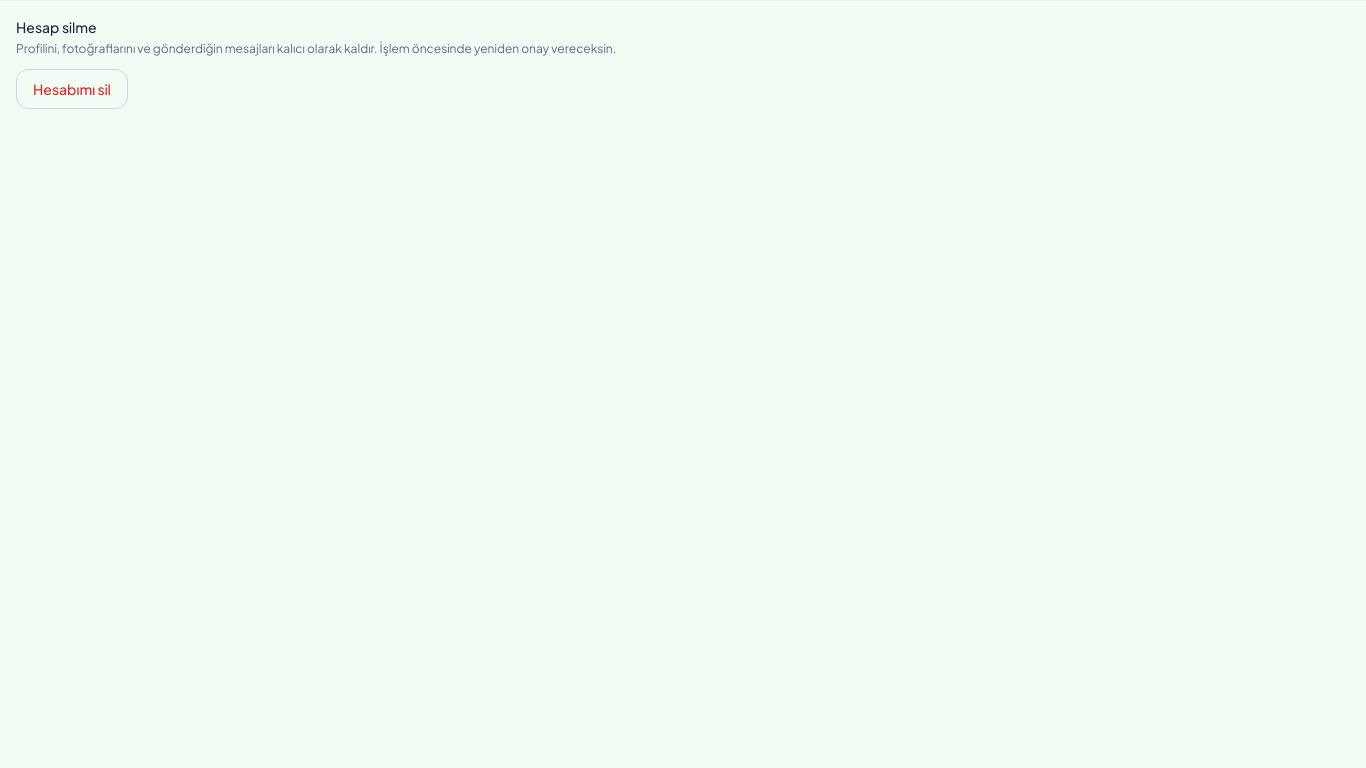
Test case: labels partial cleanup honestly and only signs out on confirmed success
Later steps or results of the test are not shown.
Click the button "Hesabımı sil" at (72, 89), box [16,69,128,109]
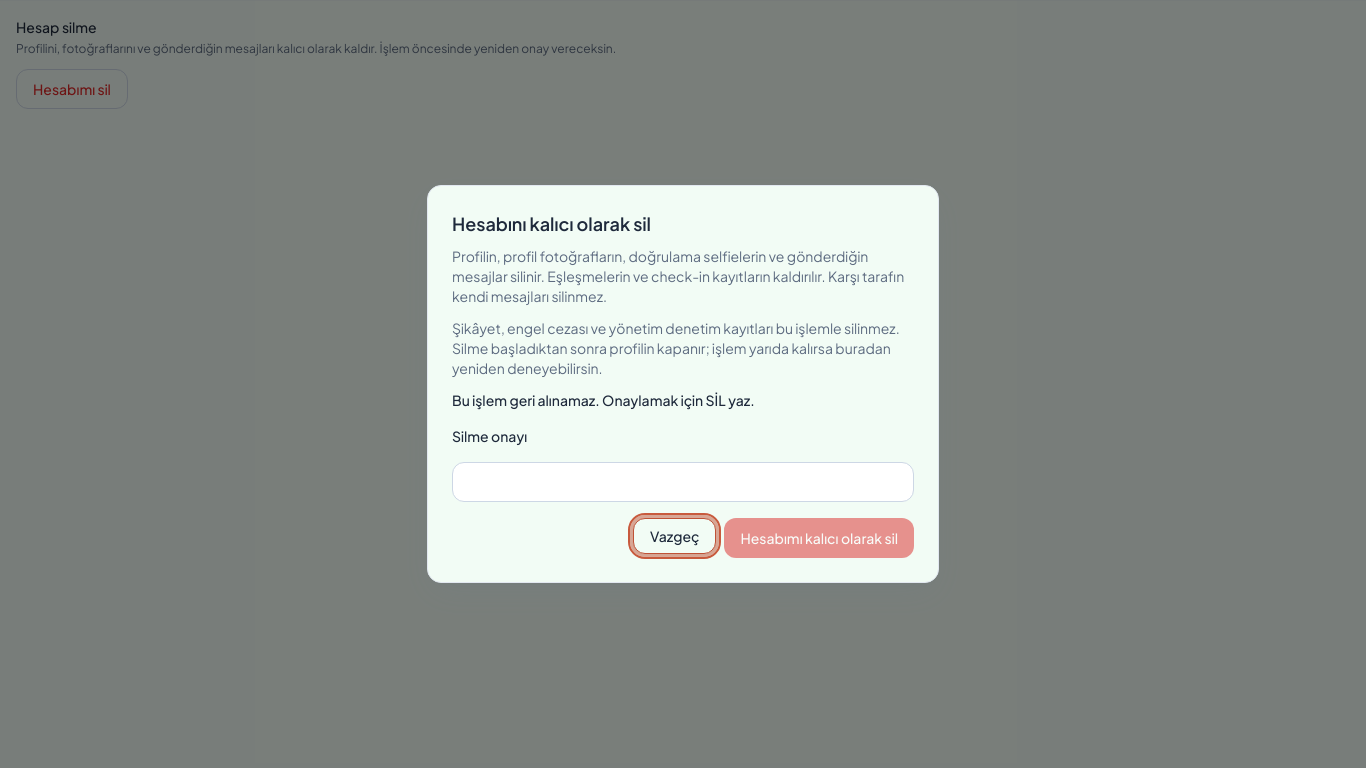
expect the dialog is shown: met, box [427,185,939,583]
Type "SİL" into the field labelled "Silme onayı" at (683, 482), box [452,462,914,502]
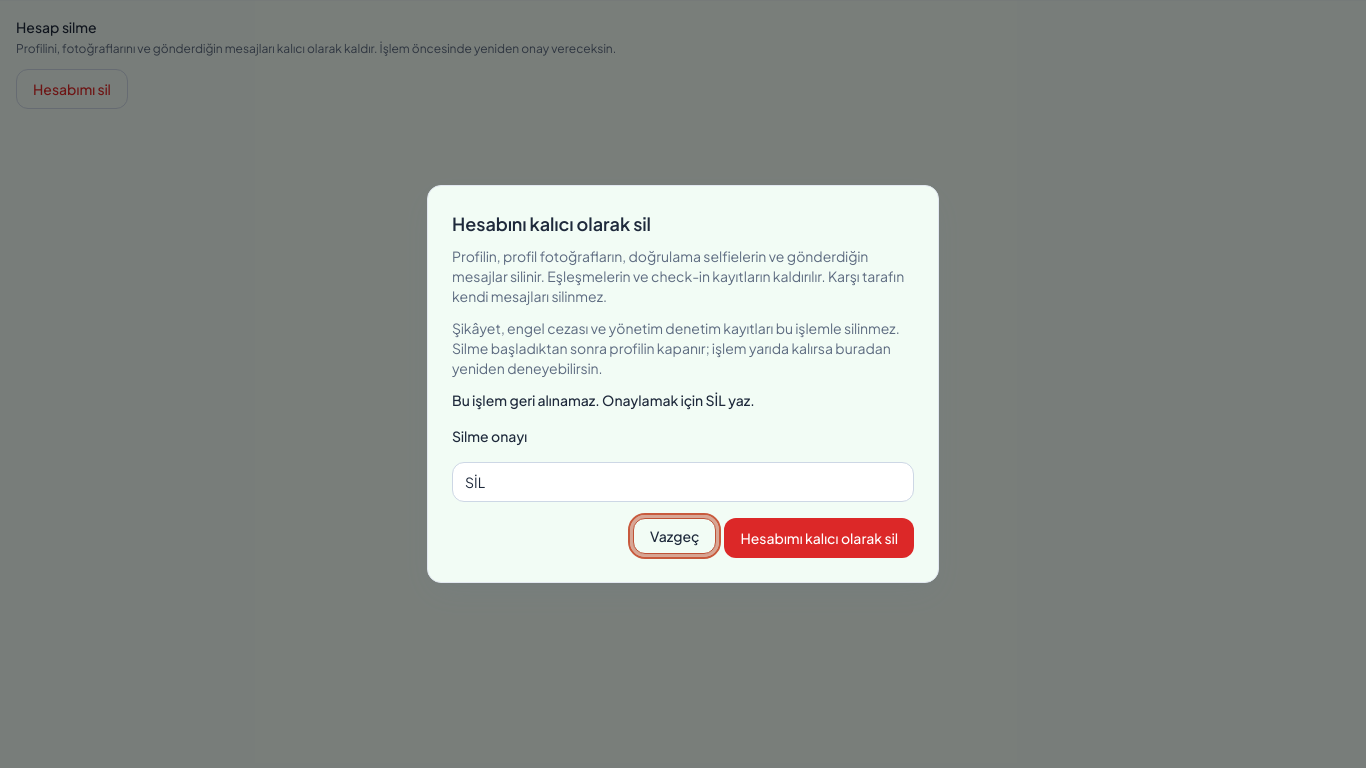
Click the button "Hesabımı kalıcı olarak sil" at (819, 538), box [724,518,914,558]
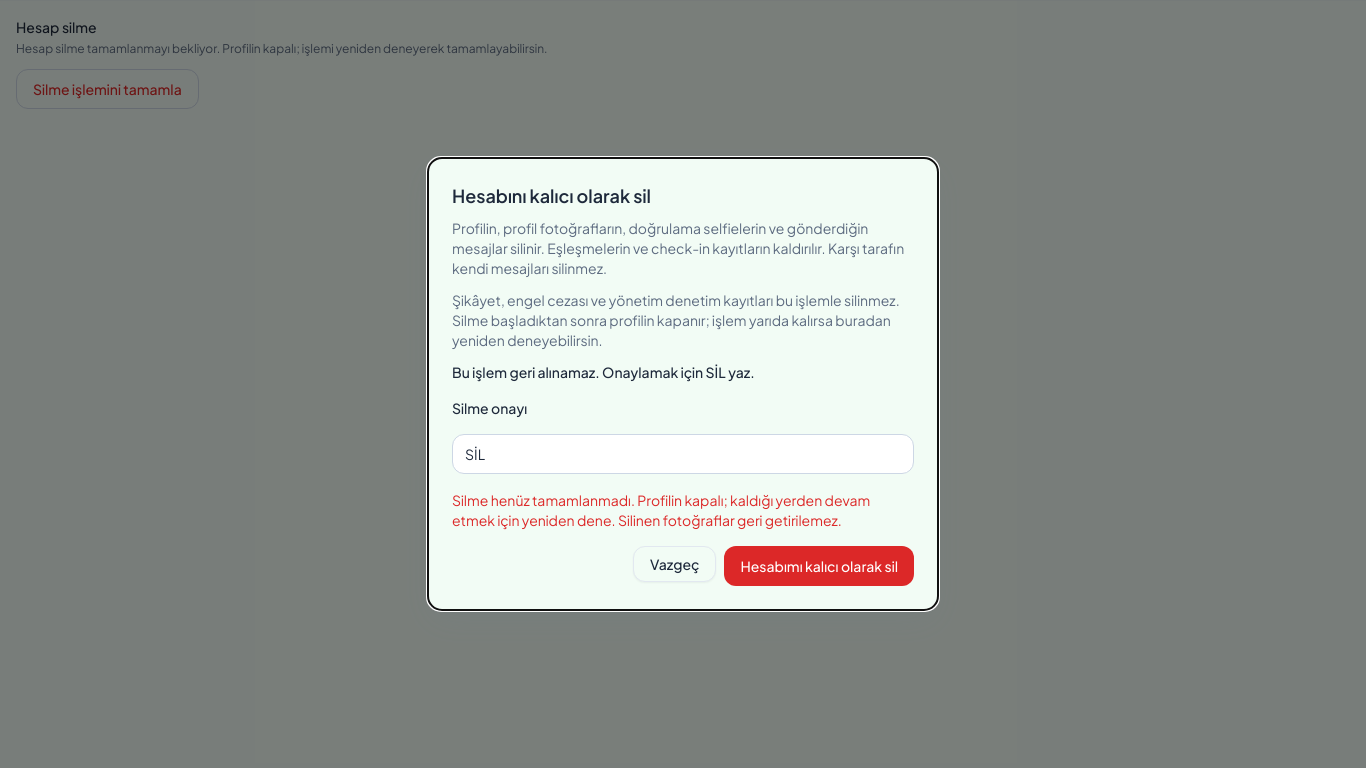
expect the message shows "Silme henüz tamamlanmadı": met, box [452,491,870,529]
